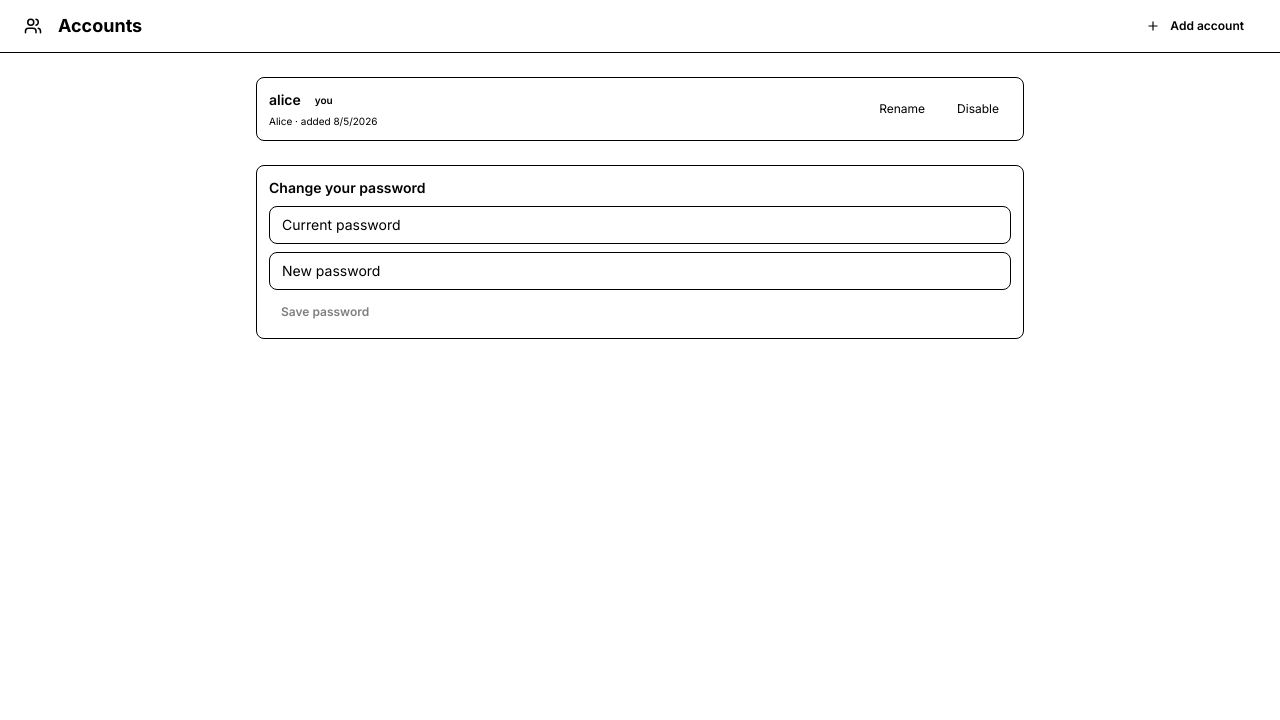
Test: disabling and enabling › shows the last-account refusal as the server explains it
The width and height of the screenshot is (1280, 720).
Check: the text "alice" is shown, box [269,90,301,110]
Click the button "Disable" at (978, 109), box [945,95,1011,123]
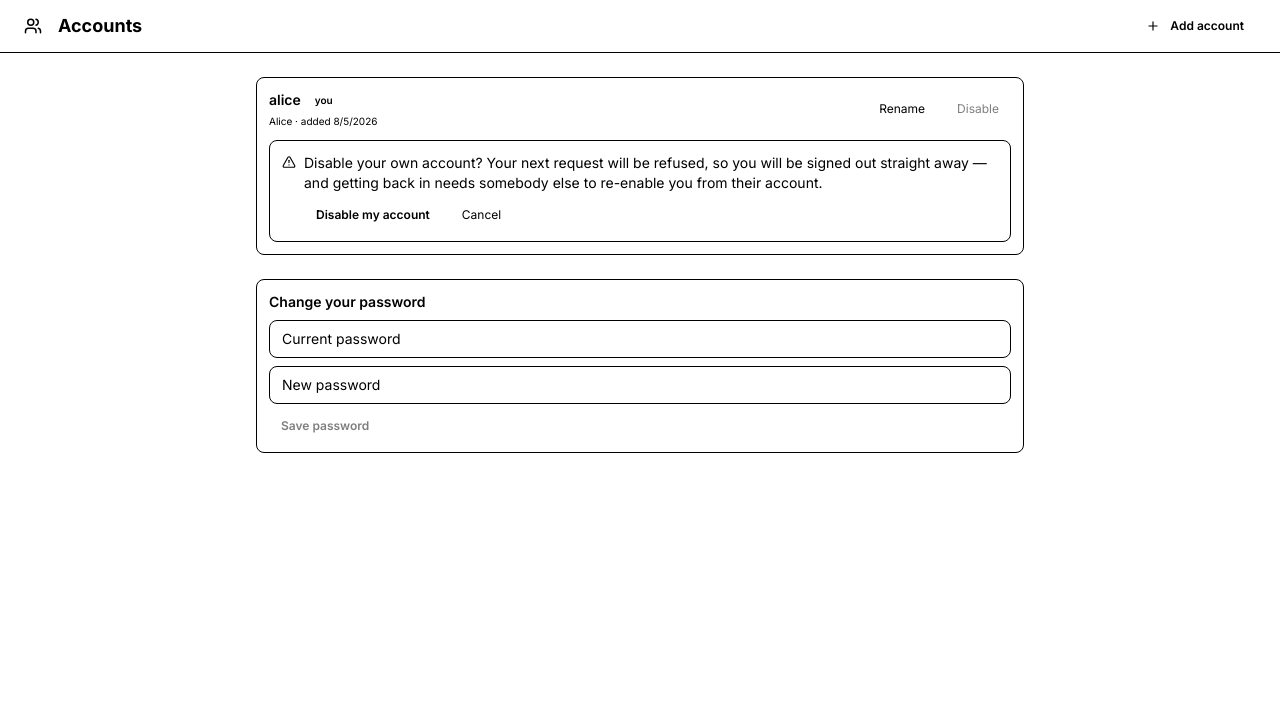
Click the button "Disable my account" at (373, 215), box [304,201,442,229]
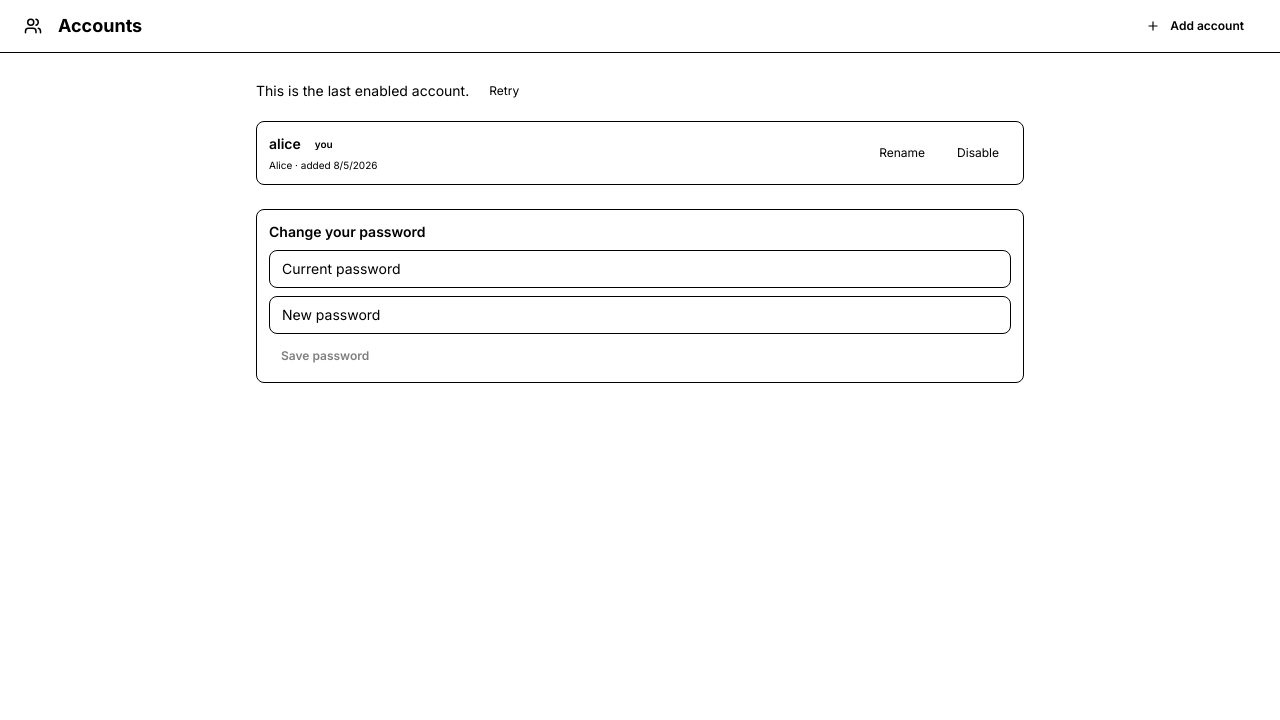
Check: the message shows "last enabled account", box [256,82,469,99]
